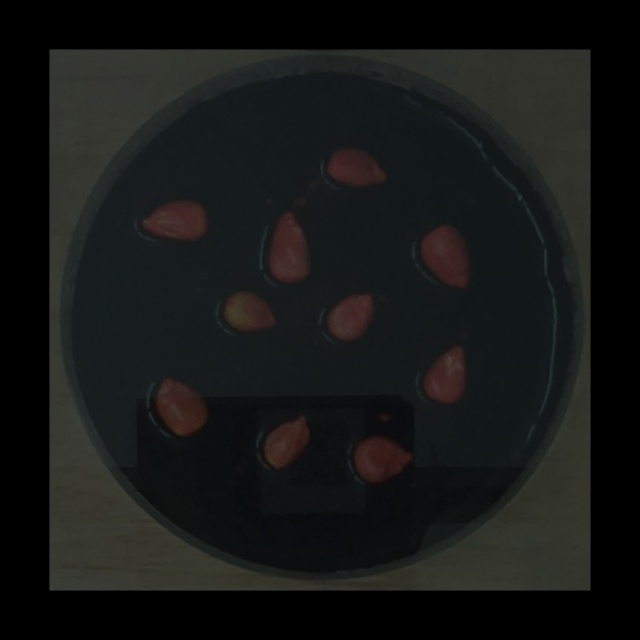Zea mays: (414, 217, 478, 294), (149, 372, 215, 443), (261, 204, 316, 289), (349, 429, 420, 490), (417, 336, 476, 409), (320, 281, 384, 348), (133, 192, 212, 246), (256, 407, 317, 475), (321, 140, 392, 194), (216, 284, 281, 338)
